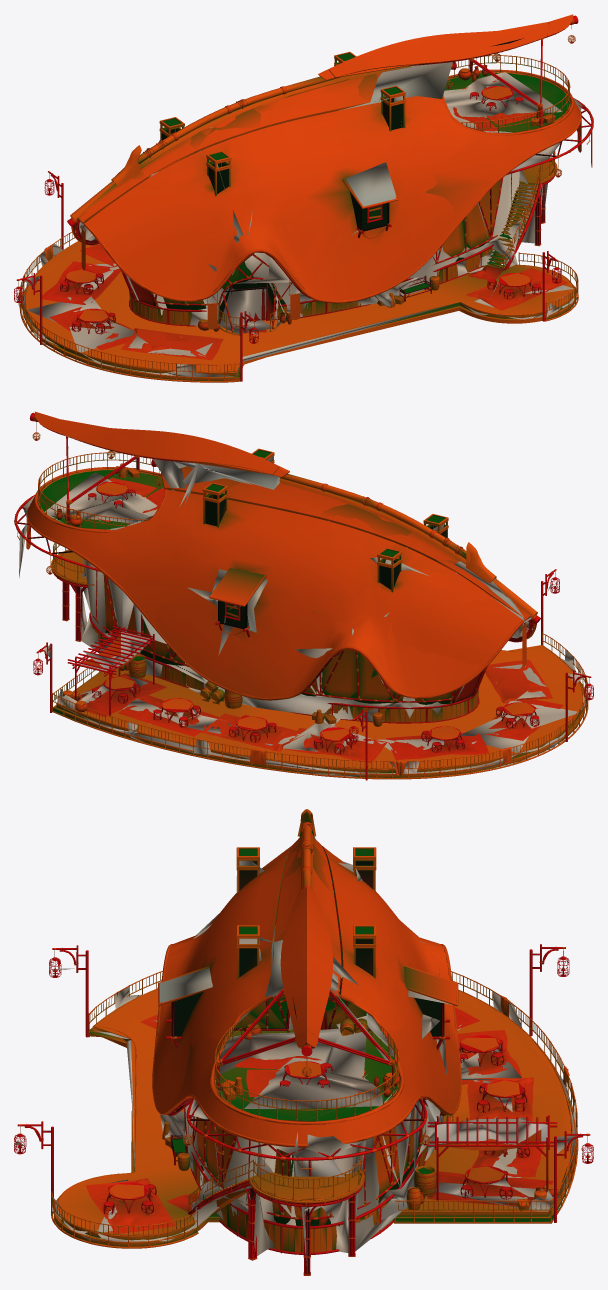
The model's file is KB3D_GAE_BldgMD_A.glb.
3 views of the same model, one above another, from view 1: azimuth 30°, elevation 25°; view 2: azimuth 150°, elevation 25°; view 3: azimuth 270°, elevation 25° (orthographic). The views are drawn at different scales.
Parts seen in each view (by area): view 1: L0, L1, L2; view 2: L0, L1, L2; view 3: L0, L1, L2.
Boxes of the visible parts, x1,y1,x2,y2 form: L0: (14, 15, 593, 382); L1: (14, 14, 592, 381); L2: (23, 62, 581, 377); L0: (14, 412, 593, 780); L1: (16, 411, 593, 777); L2: (19, 432, 585, 776); L0: (14, 809, 593, 1275); L1: (14, 810, 593, 1274); L2: (14, 834, 577, 1265).
Size of the model in its own units: 41.09 by 14.95 by 29.12.
